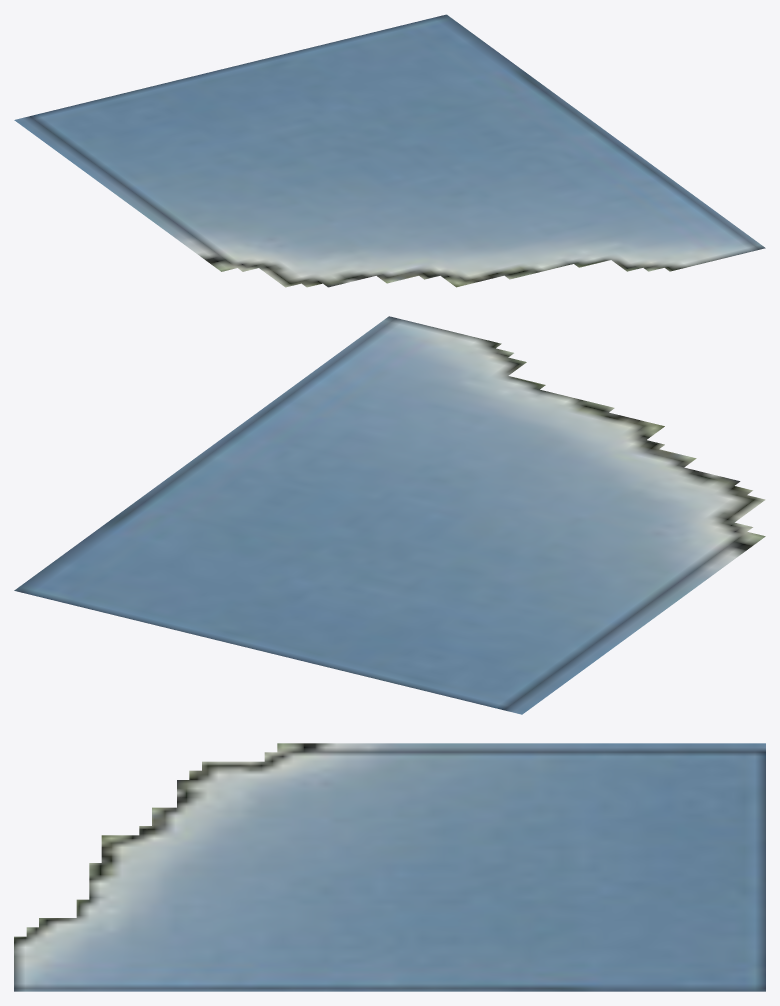
File: north-brazil-sea.gltf
3 views of the same model, one above another, from view 1: azimuth 30°, elevation 25°; view 2: azimuth 150°, elevation 25°; view 3: azimuth 270°, elevation 25° (orthographic). The views are drawn at different scales.
Parts seen in each view (by area): view 1: Plane; view 2: Plane; view 3: Plane.
Part boxes in pixels (x1,y1,x2,y2): Plane: [14, 14, 765, 287]; Plane: [14, 316, 765, 714]; Plane: [14, 743, 765, 991].
Size of the model in its own units: 0.2666 by 0 by 0.3407.
1 material, 1 textured.
